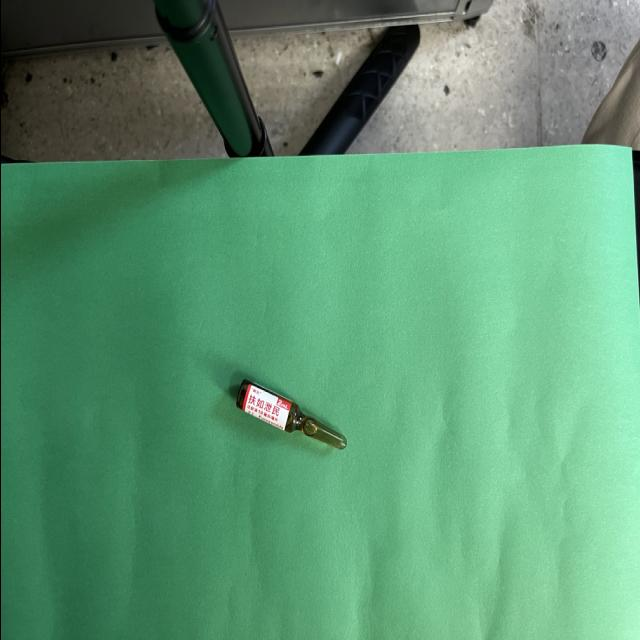Ampoules: (235, 379, 346, 449)
